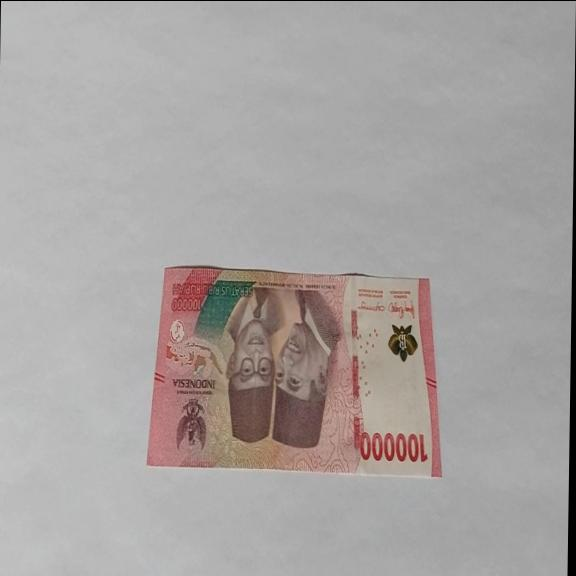Kertas: (144, 265, 445, 479), (358, 428, 428, 466)
